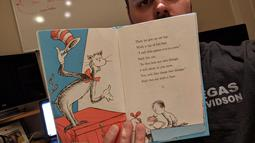text block: (130, 33, 188, 81)
